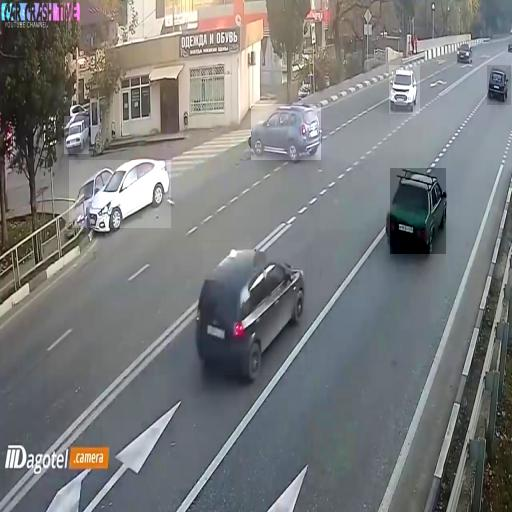小汽车: (203, 242, 305, 375), (390, 168, 446, 254), (252, 104, 322, 160), (389, 65, 420, 114), (488, 66, 512, 106), (64, 116, 89, 154), (455, 42, 473, 64)
小汽车撞小汽车: (70, 160, 172, 228)
